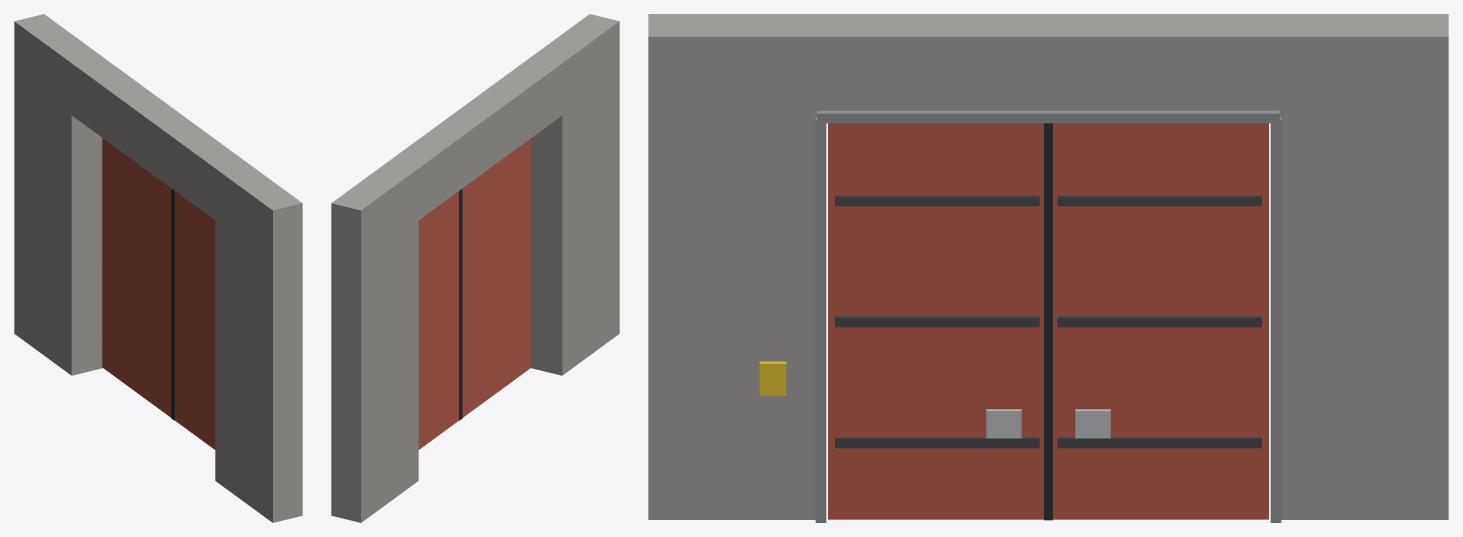
The model's file is EQ_VentDoor.glb.
3 renders of one model, left to right at view 1: azimuth 30°, elevation 25°; view 2: azimuth 150°, elevation 25°; view 3: azimuth 270°, elevation 25°, orthographic. The views are drawn at different scales.
Visible parts, largest first — view 1: VD_Frame, VD_Leaf_L, VD_Leaf_R; view 2: VD_Frame, VD_Leaf_R, VD_Leaf_L; view 3: VD_Frame, VD_Leaf_L, VD_Leaf_R.
Boxes of the visible parts, x1=… form: VD_Frame: x1=14, y1=14, x2=302, y2=522; VD_Leaf_L: x1=102, y1=138, x2=173, y2=419; VD_Leaf_R: x1=173, y1=190, x2=215, y2=449; VD_Frame: x1=331, y1=14, x2=619, y2=522; VD_Leaf_R: x1=460, y1=138, x2=531, y2=419; VD_Leaf_L: x1=418, y1=190, x2=460, y2=449; VD_Frame: x1=648, y1=14, x2=1448, y2=522; VD_Leaf_L: x1=1047, y1=123, x2=1268, y2=520; VD_Leaf_R: x1=828, y1=123, x2=1049, y2=520.
Bounding box in the file's own units: 0.725 × 6 × 9.
